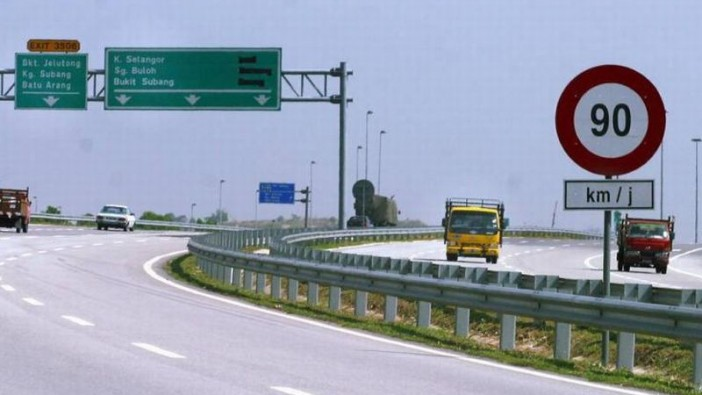Speed_limit_90km: (555, 64, 667, 175)
